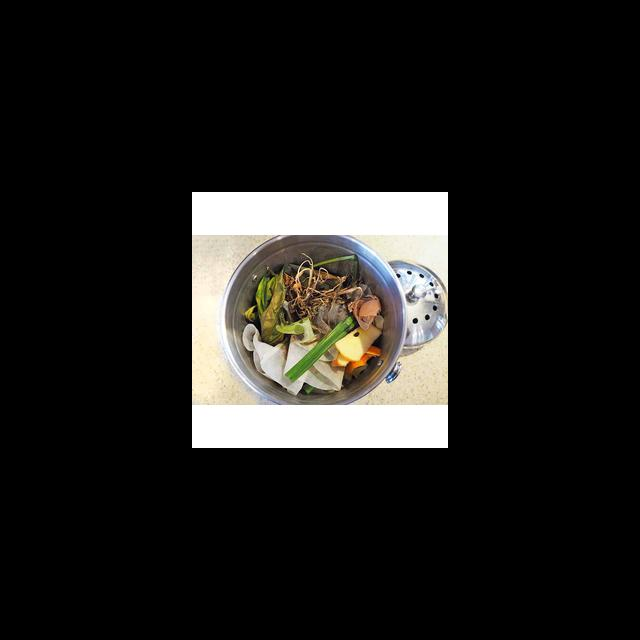food_waste: (243, 254, 386, 376)
plastic: (242, 324, 344, 394)
